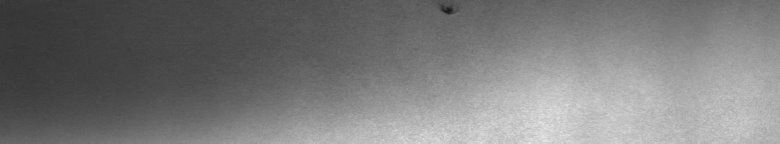fi: (436, 4, 460, 23)
